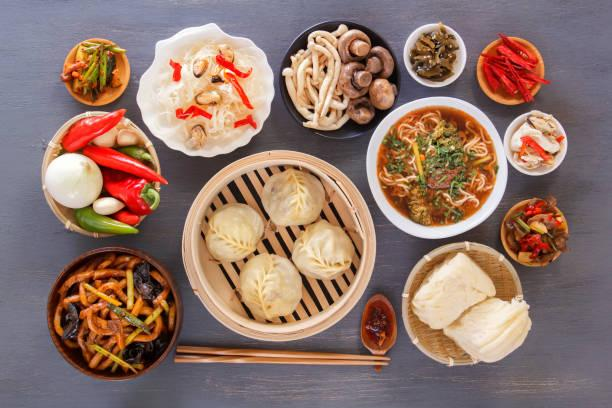Braised Crucian Carp: (181, 150, 371, 341), (365, 95, 505, 238), (136, 23, 271, 158), (45, 247, 180, 379), (401, 242, 525, 367), (41, 113, 160, 236), (279, 21, 398, 141)
